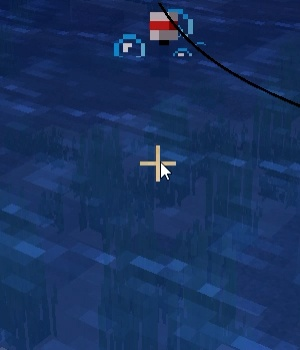up: (145, 9, 186, 75)
